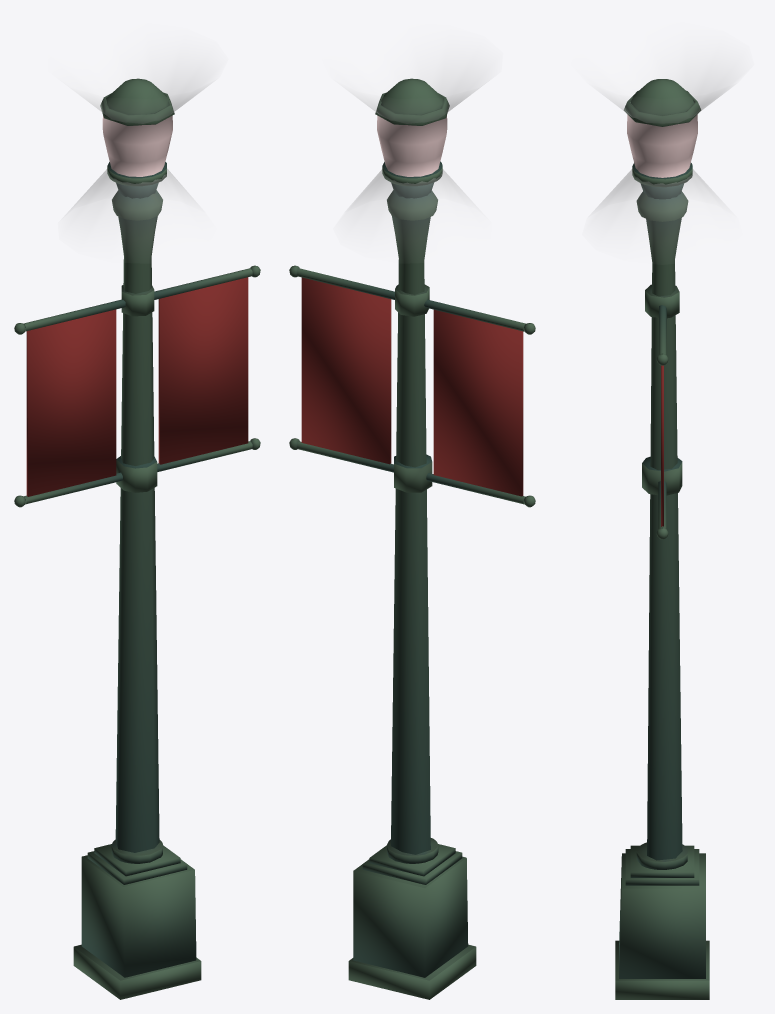
File: furnishings-lightsources-banneredstreetlamp_v1.glb
3 views of the same model, side by side, from view 1: azimuth 30°, elevation 25°; view 2: azimuth 150°, elevation 25°; view 3: azimuth 270°, elevation 25° (orthographic).
Visible parts, largest first — view 1: BanneredStreetLamp_base, BanneredStreetLamp_color, BanneredStreetLamp_light; view 2: BanneredStreetLamp_base, BanneredStreetLamp_color, BanneredStreetLamp_light; view 3: BanneredStreetLamp_base, BanneredStreetLamp_light, BanneredStreetLamp_color.
Boxes of the visible parts, x1,y1,x2,y2 form: BanneredStreetLamp_base: [14, 78, 260, 999]; BanneredStreetLamp_color: [26, 277, 248, 496]; BanneredStreetLamp_light: [68, 54, 208, 225]; BanneredStreetLamp_base: [289, 78, 535, 999]; BanneredStreetLamp_color: [301, 277, 523, 496]; BanneredStreetLamp_light: [341, 54, 481, 225]; BanneredStreetLamp_base: [615, 79, 709, 999]; BanneredStreetLamp_light: [594, 54, 730, 226]; BanneredStreetLamp_color: [661, 365, 663, 526].
Size of the model in its own units: 2.9 by 10.39 by 2.
